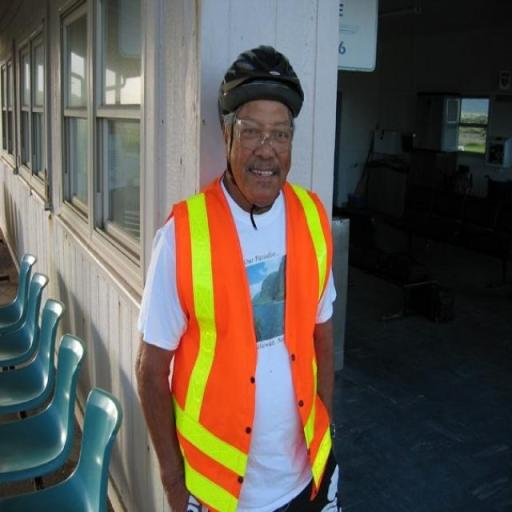vest: (166, 182, 334, 500)
